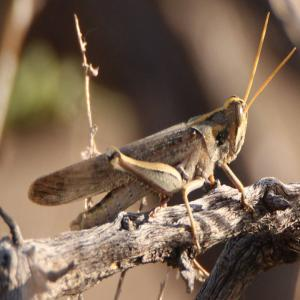locust: (38, 52, 271, 234)
